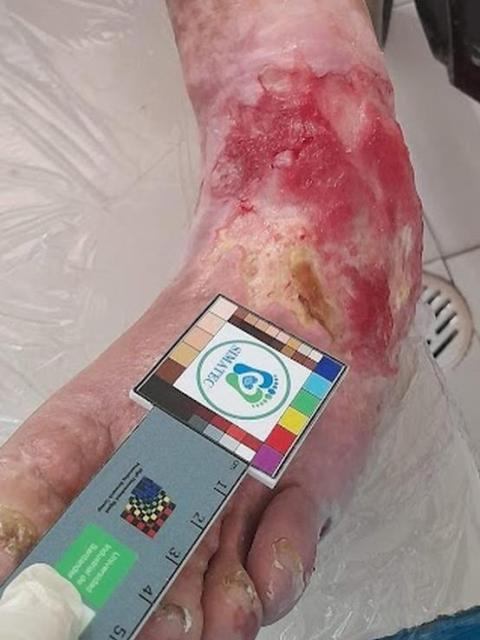wound: (201, 53, 423, 379), (232, 606, 259, 638)
